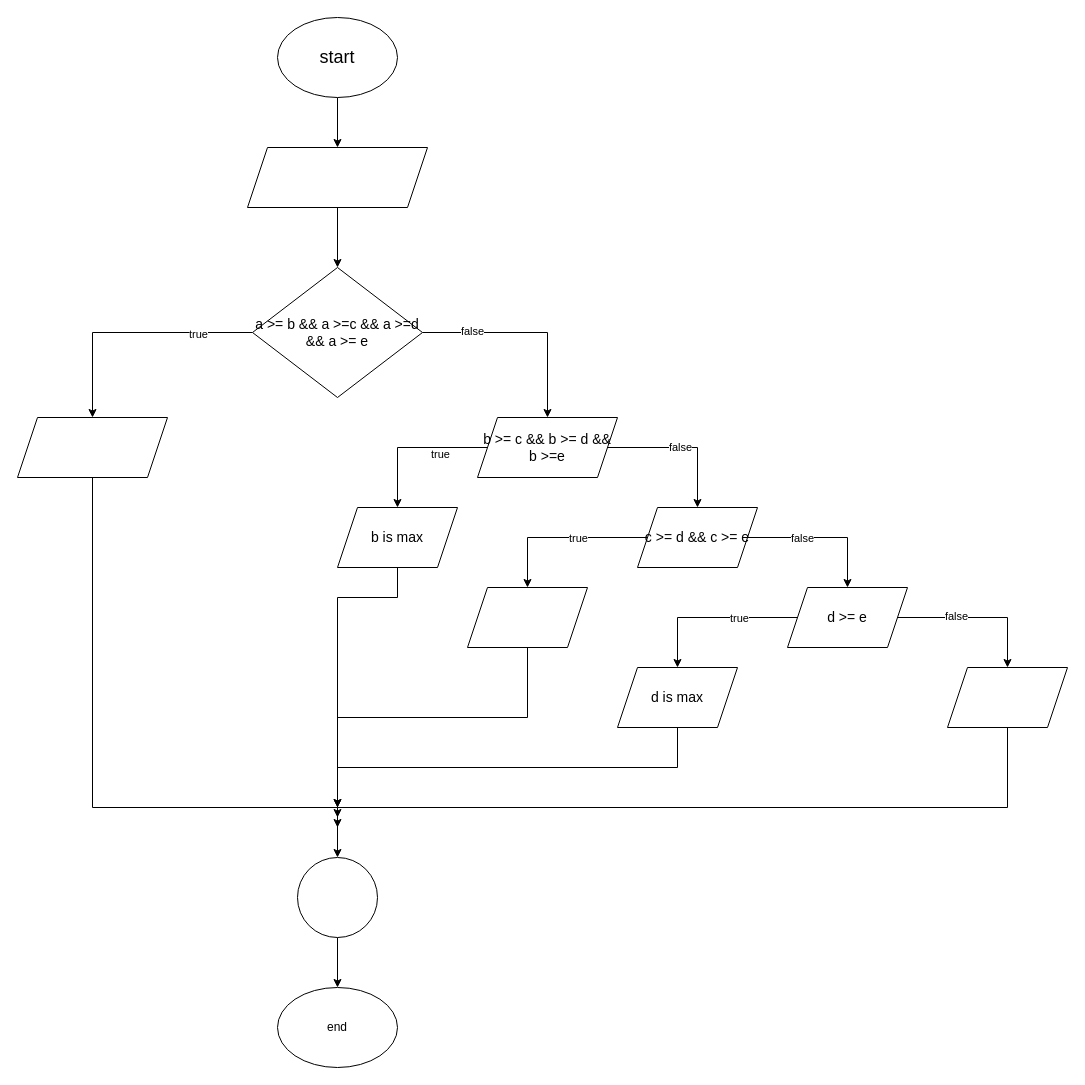
The diagram is 1085 pixels wide and 1085 high, and some of its shapes have lost their labels. The box of each missing label's shape, as (x1, y1, x2, y2) in pixels:
a is max: (16, 416, 168, 478)
c is max: (466, 586, 588, 648)
e is max: (946, 666, 1068, 728)
Enter a,b,c,d,e;: (246, 146, 428, 208)
